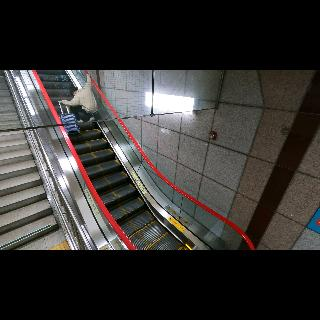anomaly: (54, 72, 98, 124)
